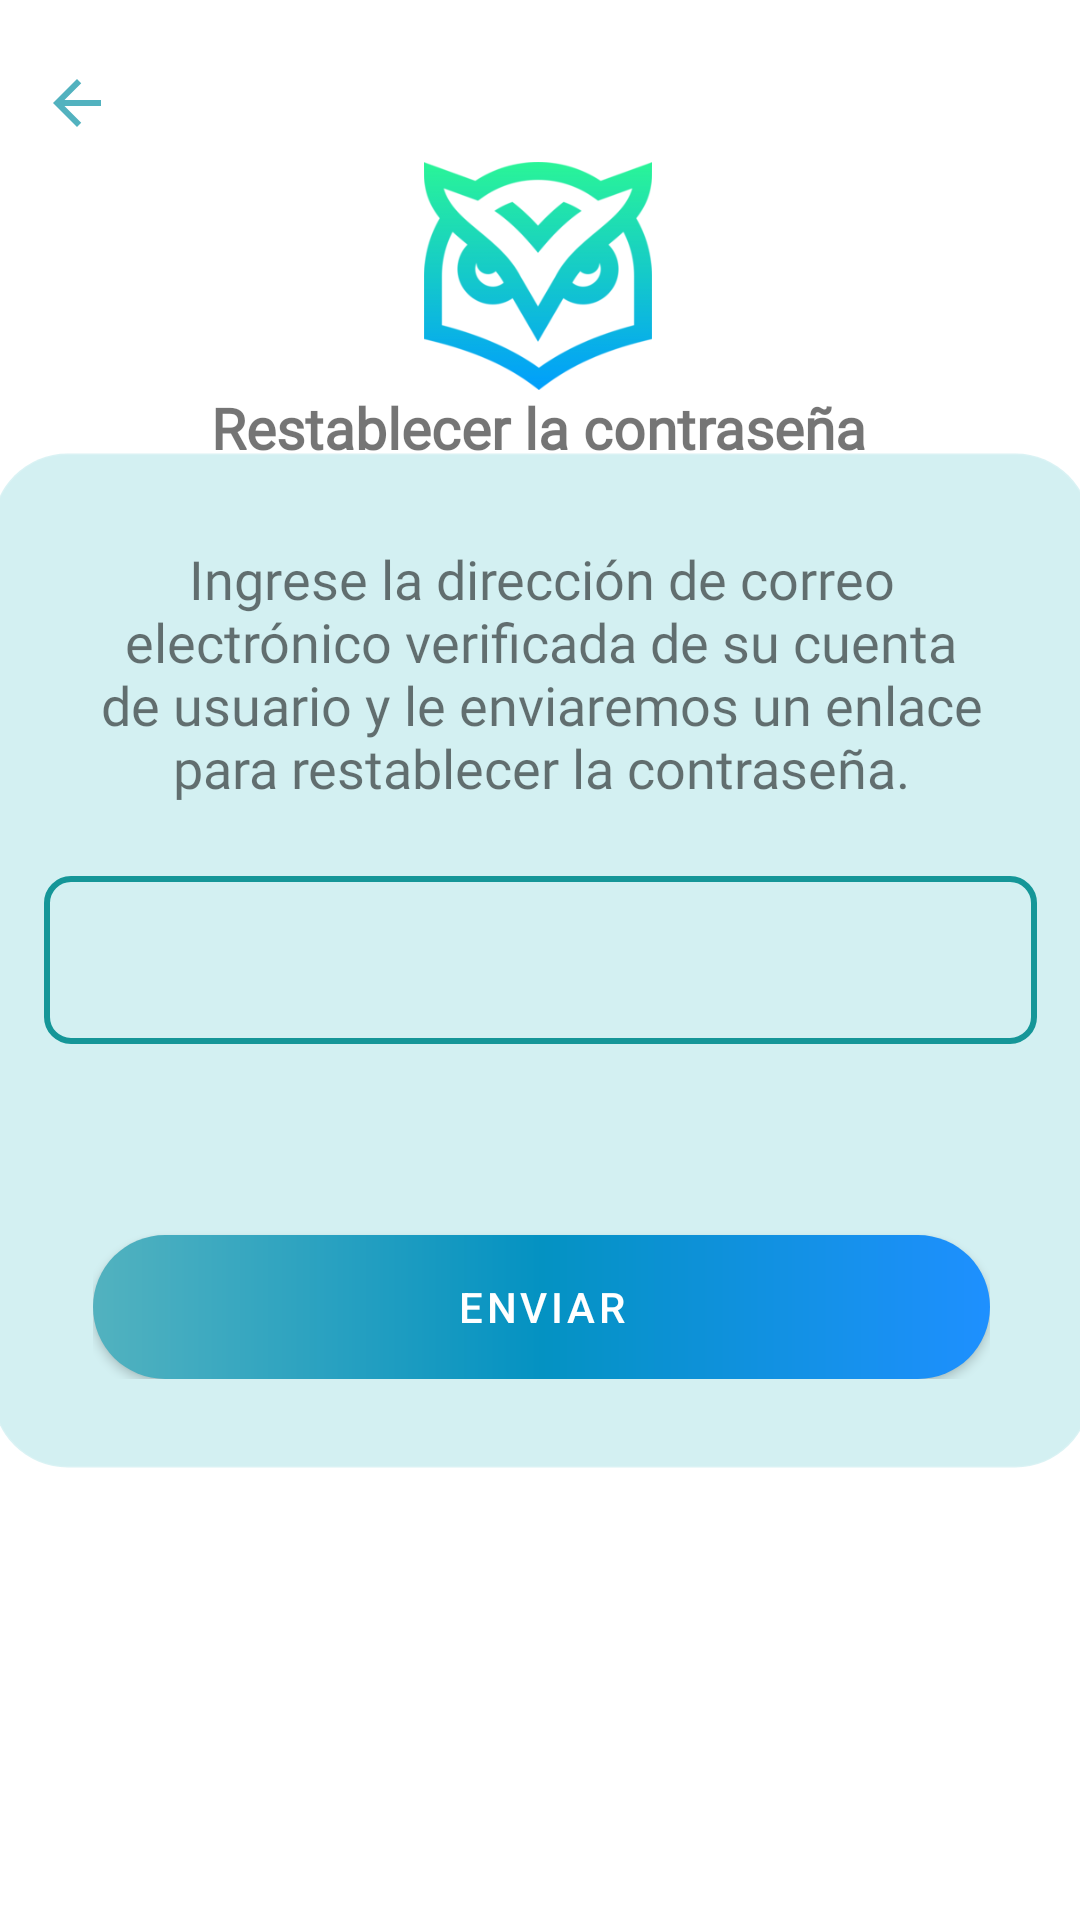

Screen size 1080w x 1920h. Icon name, then its box in pixels as [x1=x1, y1=y1, x2=x2, y2=y2]:
regresar: [x1=53, y1=79, x2=101, y2=127]
